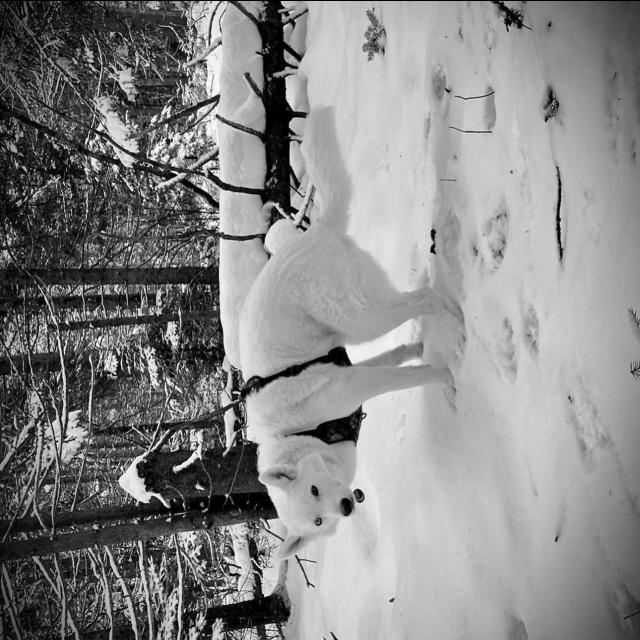squatting: (236, 102, 470, 564)
